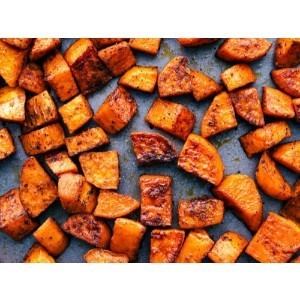sweet potato_brain food: (16, 60, 284, 248)
